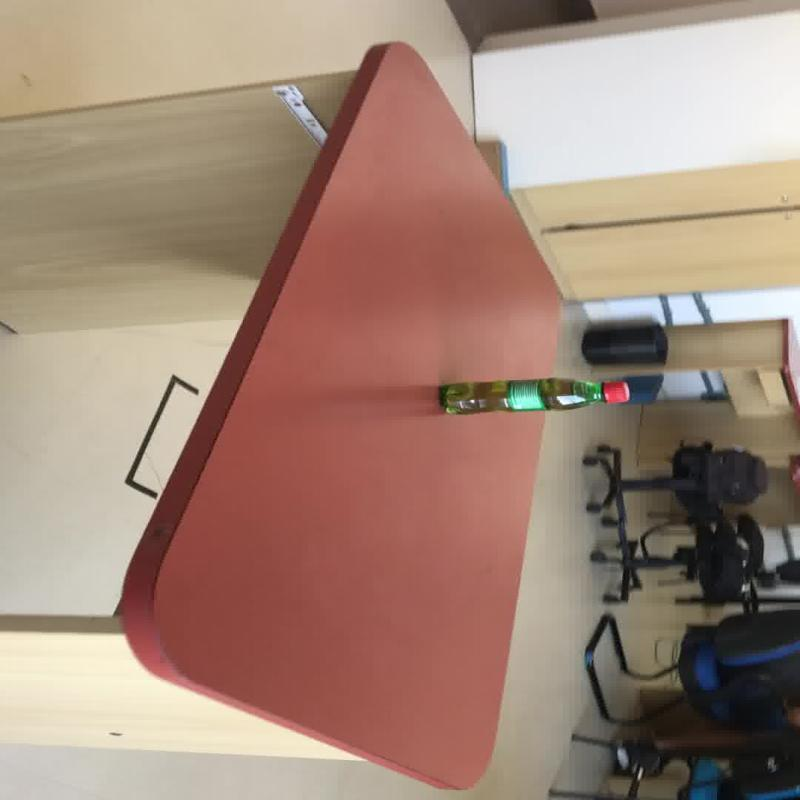guarana: (115, 38, 574, 790)
